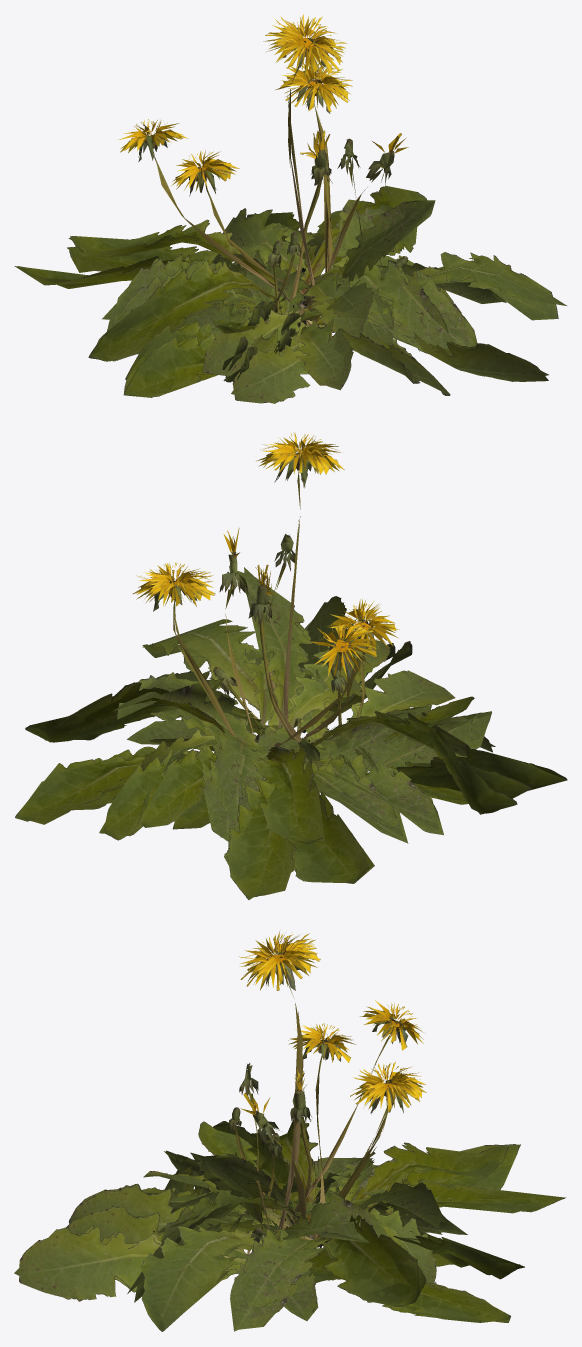
Rendered from dandelion_01.glb.
3 views of the same model, one above another, from view 1: azimuth 30°, elevation 25°; view 2: azimuth 150°, elevation 25°; view 3: azimuth 270°, elevation 25° (orthographic). The views are drawn at different scales.
Parts seen in each view (by area): view 1: dandelion_01_v0_near, dandelion_01_v0_far, dandelion_01_v4_far, dandelion_01_v4_near, dandelion_01_v1_near, dandelion_01_v1_far, dandelion_01_v2_near, dandelion_01_v2_far, dandelion_01_v3_near, dandelion_01_v3_far; view 2: dandelion_01_v0_far, dandelion_01_v0_near, dandelion_01_v4_far, dandelion_01_v1_near, dandelion_01_v1_far, dandelion_01_v4_near, dandelion_01_v2_near, dandelion_01_v2_far, dandelion_01_v3_near, dandelion_01_v3_far; view 3: dandelion_01_v0_far, dandelion_01_v0_near, dandelion_01_v4_far, dandelion_01_v1_far, dandelion_01_v4_near, dandelion_01_v1_near, dandelion_01_v2_near, dandelion_01_v3_near, dandelion_01_v2_far, dandelion_01_v3_far.
Part boxes in pixels (x1=…): dandelion_01_v0_near: x1=69, y1=14, x2=558, y2=403; dandelion_01_v0_far: x1=67, y1=19, x2=566, y2=403; dandelion_01_v4_far: x1=70, y1=185, x2=448, y2=383; dandelion_01_v4_near: x1=68, y1=187, x2=448, y2=383; dandelion_01_v1_near: x1=17, y1=60, x2=505, y2=395; dandelion_01_v1_far: x1=14, y1=64, x2=506, y2=394; dandelion_01_v2_near: x1=199, y1=130, x2=440, y2=390; dandelion_01_v2_far: x1=187, y1=151, x2=439, y2=385; dandelion_01_v3_near: x1=183, y1=240, x2=412, y2=382; dandelion_01_v3_far: x1=186, y1=242, x2=415, y2=382; dandelion_01_v0_far: x1=81, y1=433, x2=566, y2=899; dandelion_01_v0_near: x1=72, y1=432, x2=567, y2=897; dandelion_01_v4_far: x1=25, y1=641, x2=517, y2=842; dandelion_01_v1_near: x1=16, y1=528, x2=531, y2=882; dandelion_01_v1_far: x1=15, y1=552, x2=532, y2=883; dandelion_01_v4_near: x1=25, y1=643, x2=516, y2=845; dandelion_01_v2_near: x1=127, y1=564, x2=472, y2=828; dandelion_01_v2_far: x1=127, y1=595, x2=472, y2=831; dandelion_01_v3_near: x1=150, y1=664, x2=491, y2=779; dandelion_01_v3_far: x1=149, y1=667, x2=491, y2=773; dandelion_01_v0_far: x1=14, y1=934, x2=566, y2=1328; dandelion_01_v0_near: x1=19, y1=931, x2=564, y2=1331; dandelion_01_v4_far: x1=69, y1=1116, x2=508, y2=1308; dandelion_01_v1_far: x1=65, y1=1023, x2=524, y2=1331; dandelion_01_v4_near: x1=69, y1=1117, x2=508, y2=1307; dandelion_01_v1_near: x1=66, y1=1023, x2=520, y2=1329; dandelion_01_v2_near: x1=142, y1=1069, x2=467, y2=1320; dandelion_01_v3_near: x1=160, y1=1124, x2=442, y2=1283; dandelion_01_v2_far: x1=147, y1=1107, x2=467, y2=1319; dandelion_01_v3_far: x1=159, y1=1121, x2=442, y2=1282.
Bounding box in the file's own units: 0.225 × 0.1641 × 0.2571.
1 material, 1 textured.
